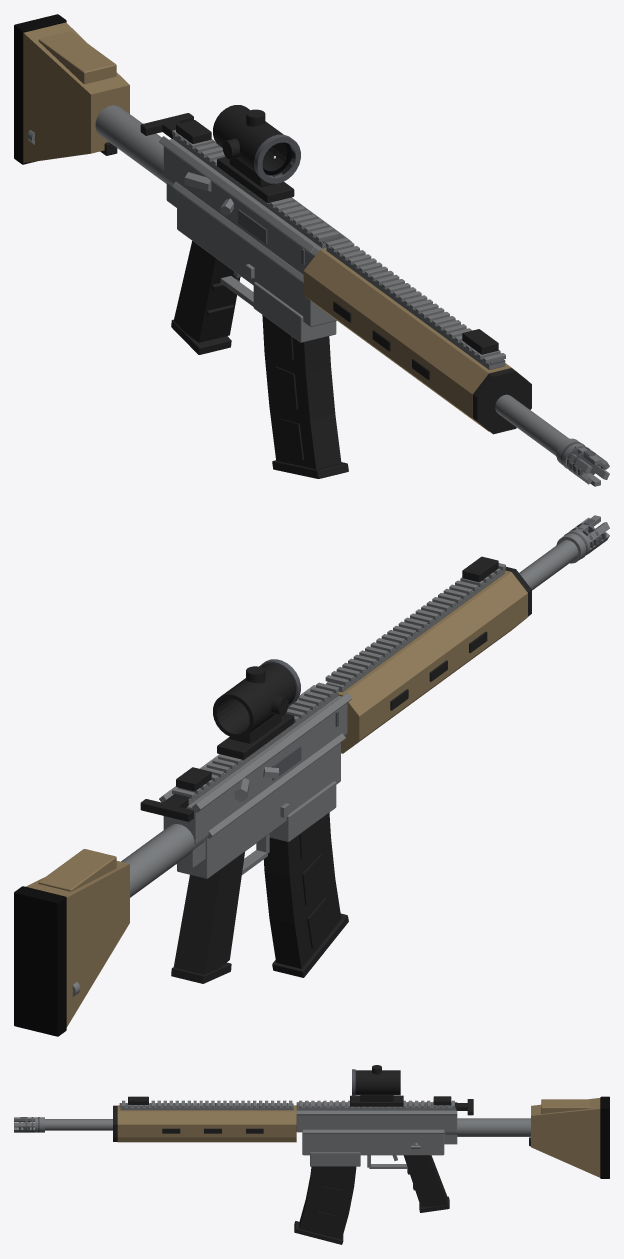
Rendered from Mpt76.obj.
3 views of the same model, one above another, from view 1: azimuth 30°, elevation 25°; view 2: azimuth 150°, elevation 25°; view 3: azimuth 270°, elevation 25° (orthographic). The views are drawn at different scales.
Visible parts, largest first — view 1: Body, Magazine; view 2: Body, Magazine; view 3: Body, Magazine.
Part boxes in pixels (box(x1,y1,x2,y2)): Body: box(14, 14, 609, 486); Magazine: box(262, 315, 348, 478); Body: box(14, 515, 609, 1036); Magazine: box(263, 812, 348, 977); Body: box(14, 1065, 609, 1212); Magazine: box(294, 1166, 356, 1244).
Bounding box in the file's own units: 0.0623 × 0.3221 × 1.
